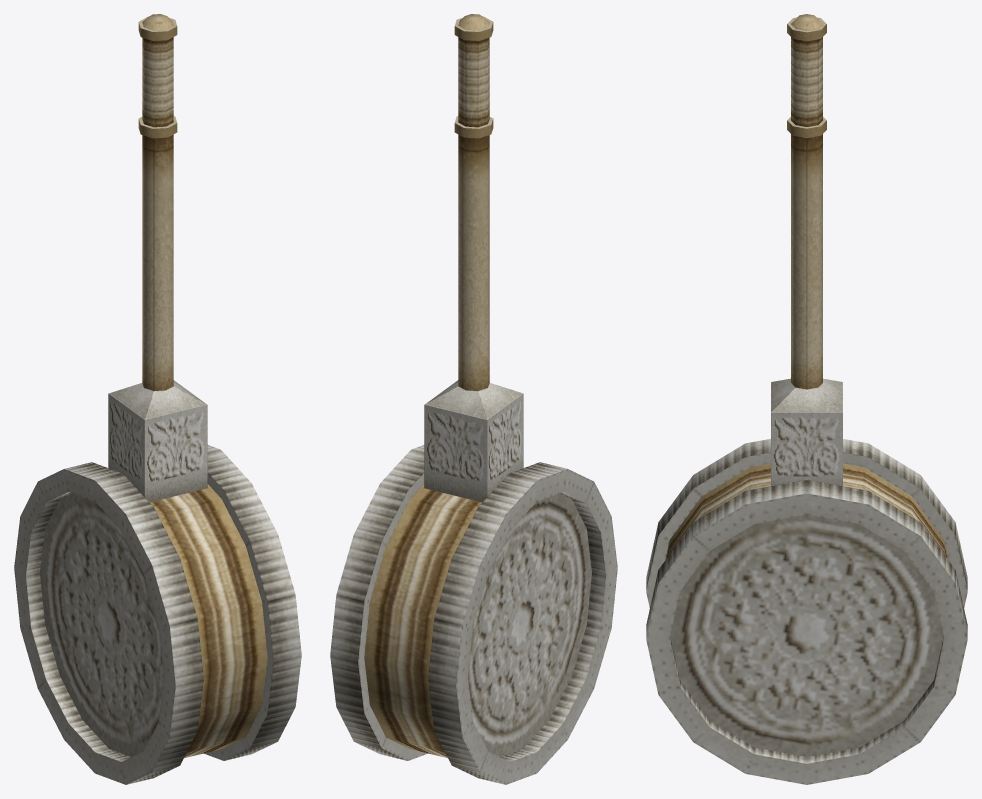
The model's file is lever.obj.
3 renders of one model, left to right at view 1: azimuth 30°, elevation 25°; view 2: azimuth 150°, elevation 25°; view 3: azimuth 270°, elevation 25°, orthographic.
Parts seen in each view (by area): view 1: Cylinder; view 2: Cylinder; view 3: Cylinder.
Part boxes in pixels (bbox=[...]): Cylinder: bbox=[14, 14, 301, 784]; Cylinder: bbox=[330, 14, 617, 784]; Cylinder: bbox=[646, 14, 967, 784].
Bounding box in the file's own units: 0.2286 × 1.28 × 0.508.
1 material, 1 textured.
